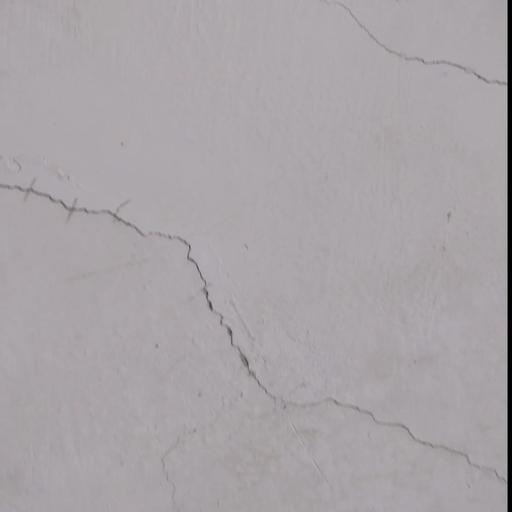minor_crack: (1, 144, 512, 498), (343, 0, 512, 100)
